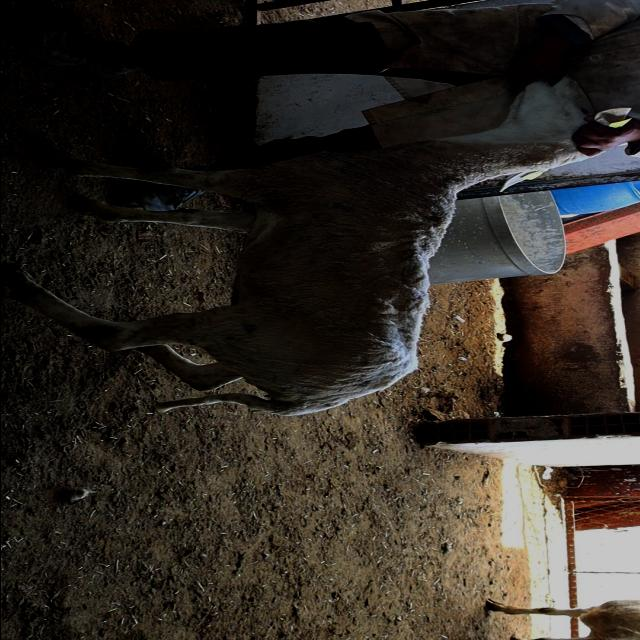Score_1: (1, 76, 593, 415)
